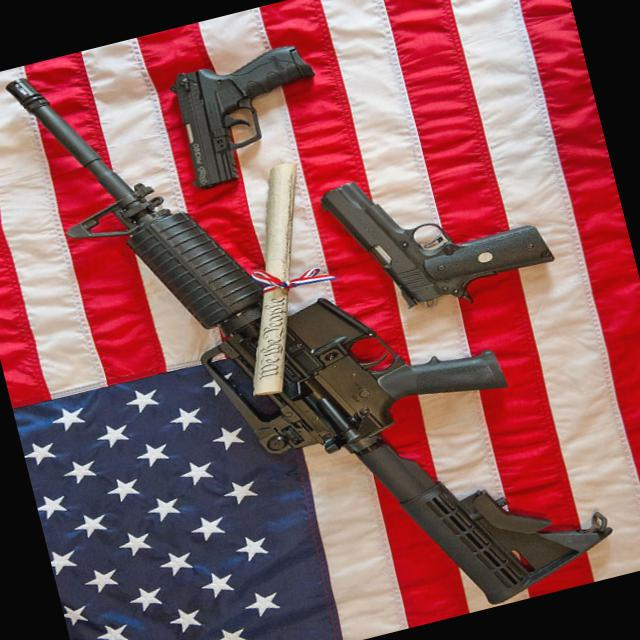handgun: (312, 136, 560, 332), (156, 34, 338, 192)
